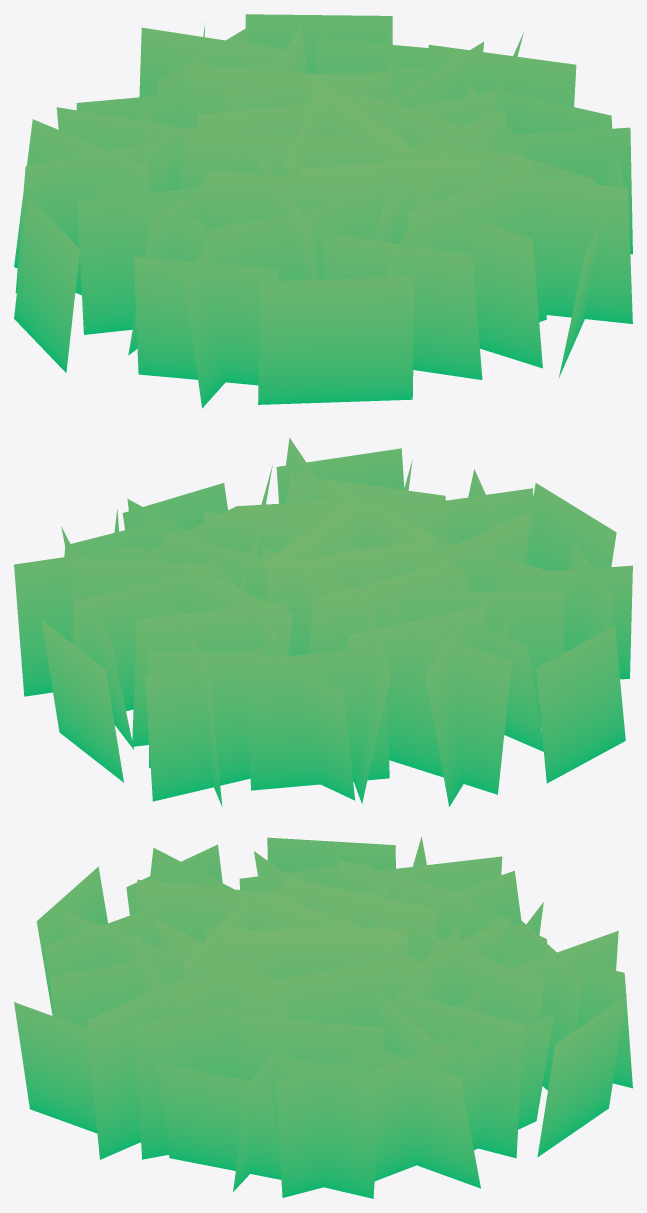
Rendered from Grass_0.4m_C_01.fbx.
3 views of the same model, one above another, from view 1: azimuth 30°, elevation 25°; view 2: azimuth 150°, elevation 25°; view 3: azimuth 270°, elevation 25° (orthographic). The views are drawn at different scales.
Visible parts, largest first — view 1: Grass_0.4m_C_01_LOD0; view 2: Grass_0.4m_C_01_LOD0; view 3: Grass_0.4m_C_01_LOD0.
Part boxes in pixels (x1,y1,x2,y2): Grass_0.4m_C_01_LOD0: (14, 14, 632, 408); Grass_0.4m_C_01_LOD0: (14, 437, 632, 806); Grass_0.4m_C_01_LOD0: (14, 836, 632, 1198).
Size of what is drawn, in the model's own units: 1.41 by 0.4074 by 1.45.
